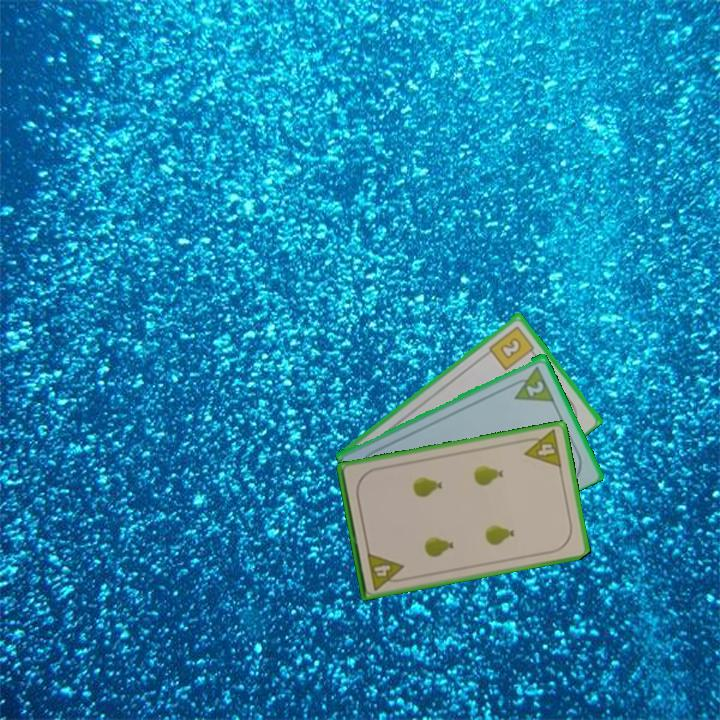2b: (485, 322, 538, 373)
2p: (506, 362, 557, 404)
4p: (519, 426, 565, 470), (363, 549, 408, 593)
